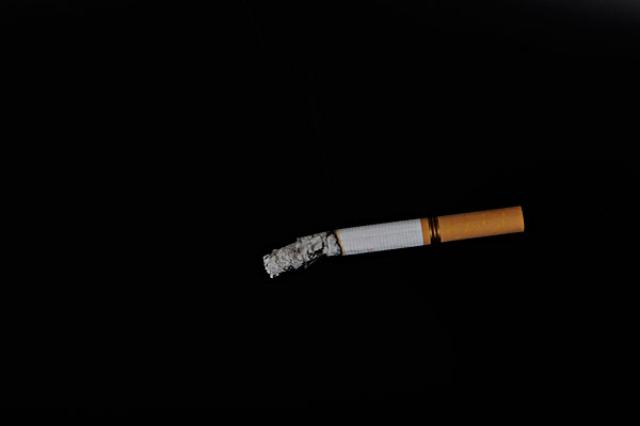Cigarette: (260, 206, 526, 280)
